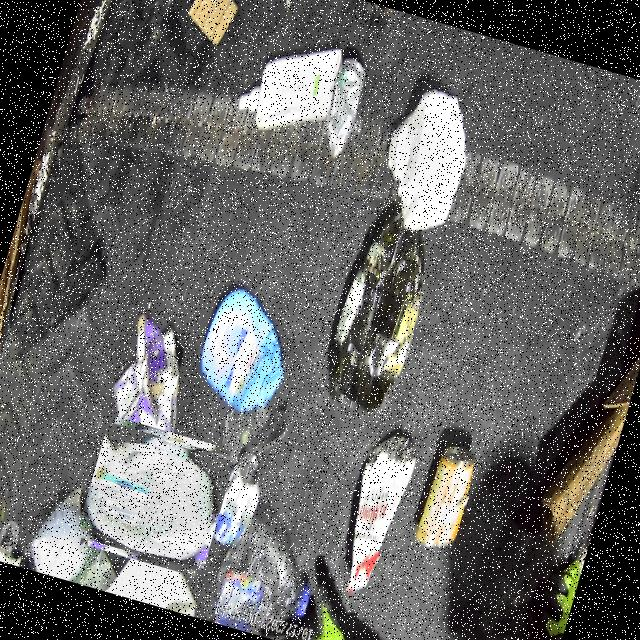milk-jug: (76, 417, 232, 572)
